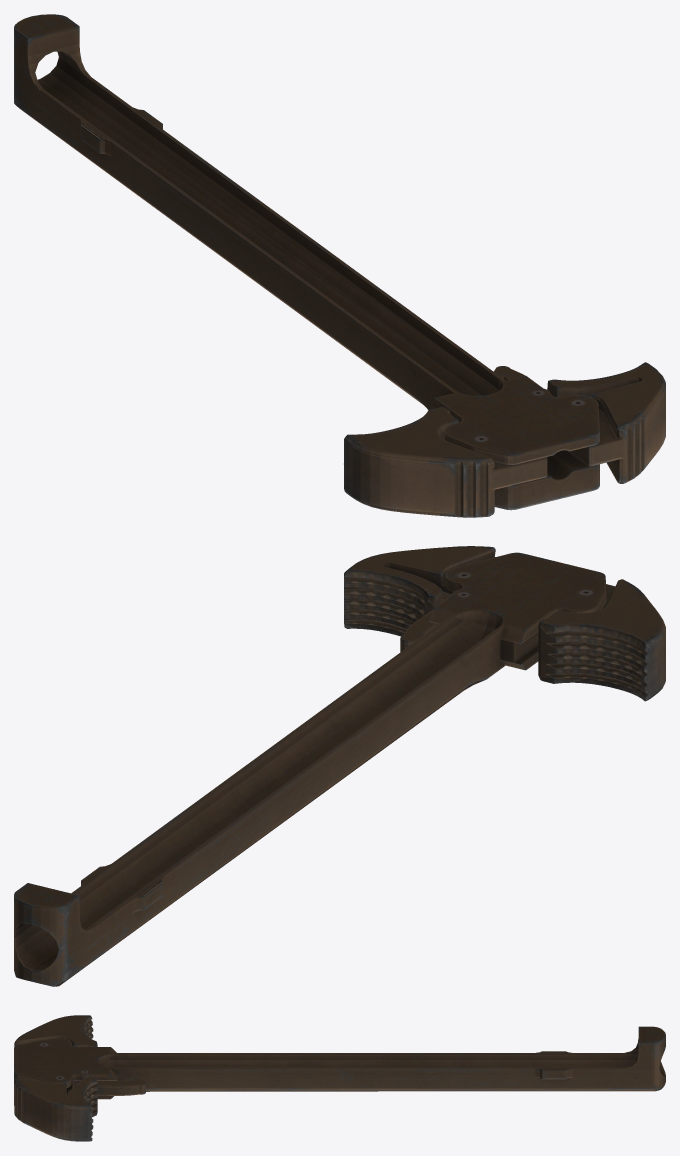
3 renders of one model, top to bottom at view 1: azimuth 30°, elevation 25°; view 2: azimuth 150°, elevation 25°; view 3: azimuth 270°, elevation 25°, orthographic. The views are drawn at different scales.
Visible parts, largest first — view 1: TW_5ea16d4d5aad6446a939753d_PZ_Import; view 2: TW_5ea16d4d5aad6446a939753d_PZ_Import; view 3: TW_5ea16d4d5aad6446a939753d_PZ_Import.
Part boxes in pixels (x1,y1,x2,y2): TW_5ea16d4d5aad6446a939753d_PZ_Import: (14,14,665,517); TW_5ea16d4d5aad6446a939753d_PZ_Import: (14,546,665,986); TW_5ea16d4d5aad6446a939753d_PZ_Import: (14,1015,665,1141).
Size of the model in its own units: 0.0337 by 0.1004 by 0.0118.
Materials: 1 (1 with a texture image).
